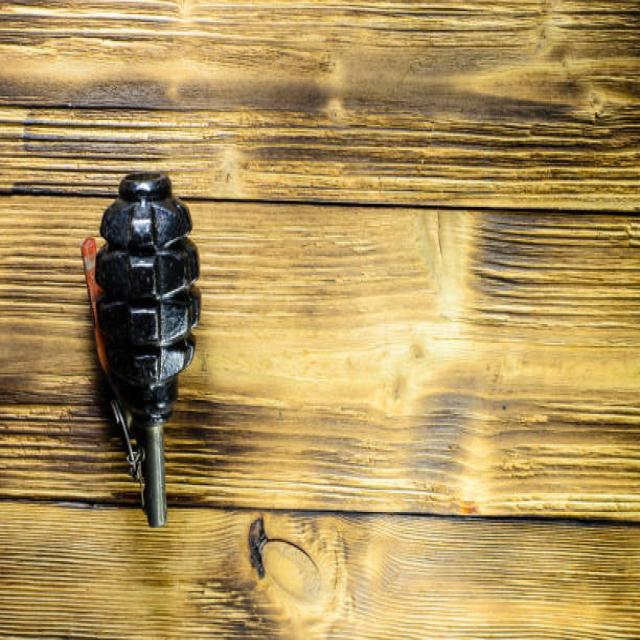grenade: (80, 166, 209, 531)
